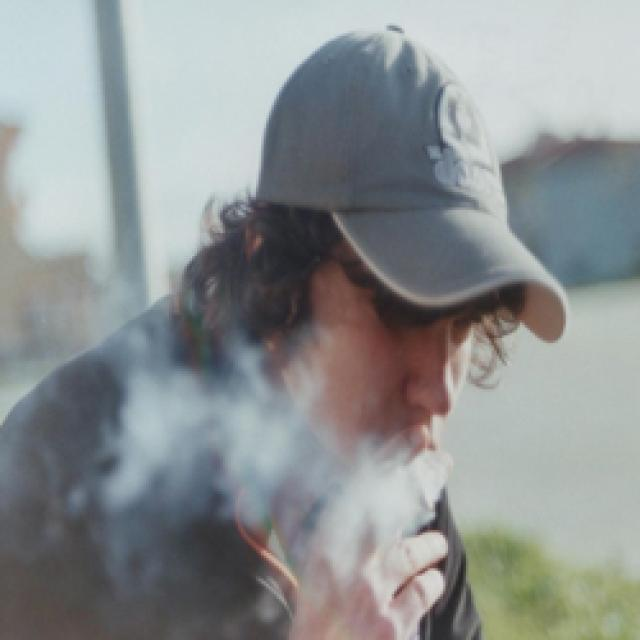Smooking: (403, 454, 454, 531)
